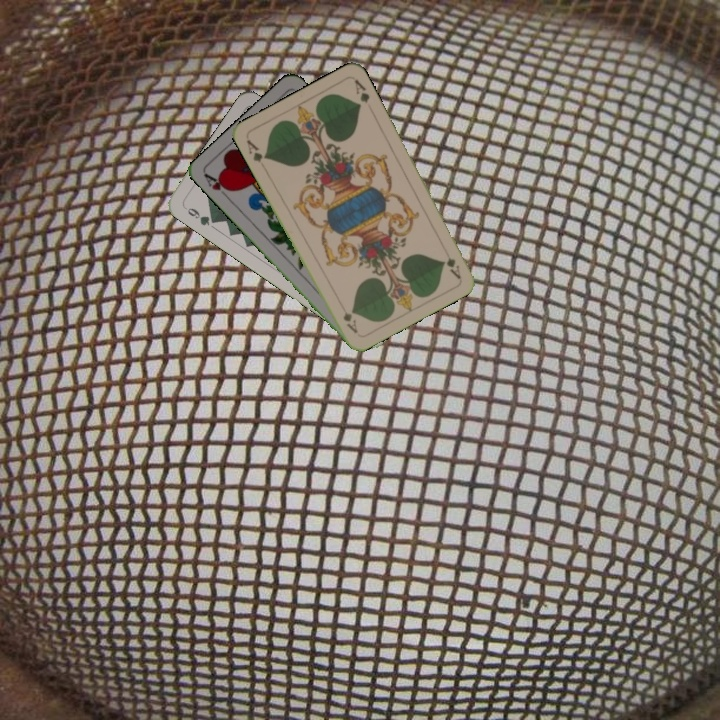G9: (180, 203, 219, 228)
GA: (439, 243, 463, 281), (242, 135, 270, 165)
HA: (200, 170, 235, 203)
